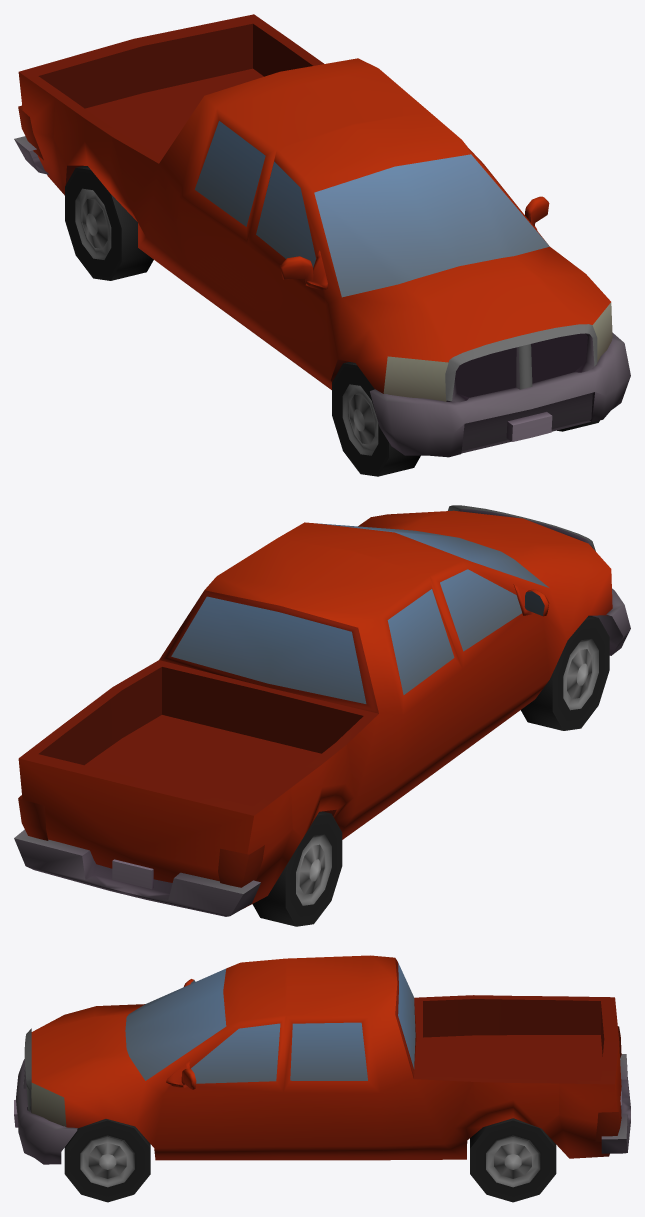
File: vehicles-trucks-vans-pickup-truck_v1.glb
3 renders of one model, top to bottom at view 1: azimuth 30°, elevation 25°; view 2: azimuth 150°, elevation 25°; view 3: azimuth 270°, elevation 25°, orthographic. The views are drawn at different scales.
Visible parts, largest first — view 1: Pickup Truck_v1.001, Pickup Truck_v1; view 2: Pickup Truck_v1.001, Pickup Truck_v1; view 3: Pickup Truck_v1.001, Pickup Truck_v1.
Part boxes in pixels (box(x1,y1,x2,y2)): Pickup Truck_v1.001: box(14, 14, 630, 476); Pickup Truck_v1: box(75, 121, 549, 455); Pickup Truck_v1.001: box(14, 505, 630, 926); Pickup Truck_v1: box(171, 523, 598, 905); Pickup Truck_v1.001: box(14, 955, 630, 1202); Pickup Truck_v1: box(80, 962, 540, 1187).
Bounding box in the file's own units: 2.21 × 1.87 × 5.8.
